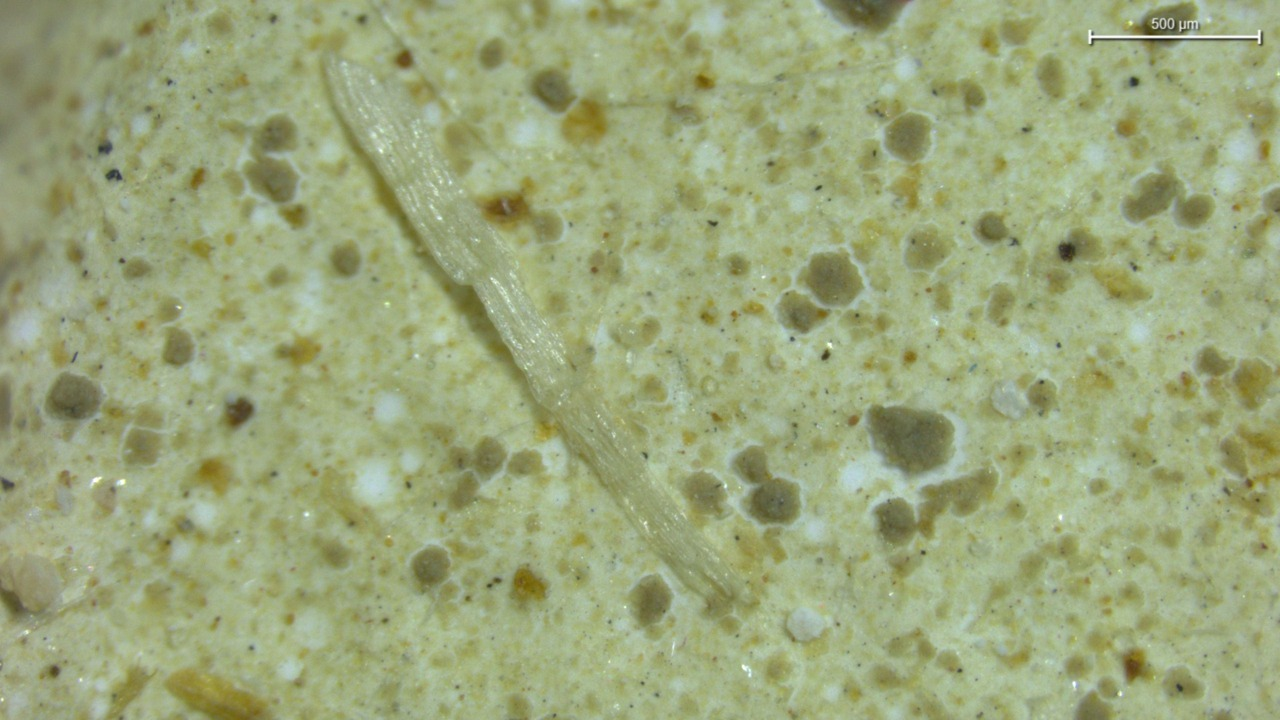microplastic_fragment: (325, 55, 744, 604), (991, 379, 1028, 419), (786, 607, 826, 642)
